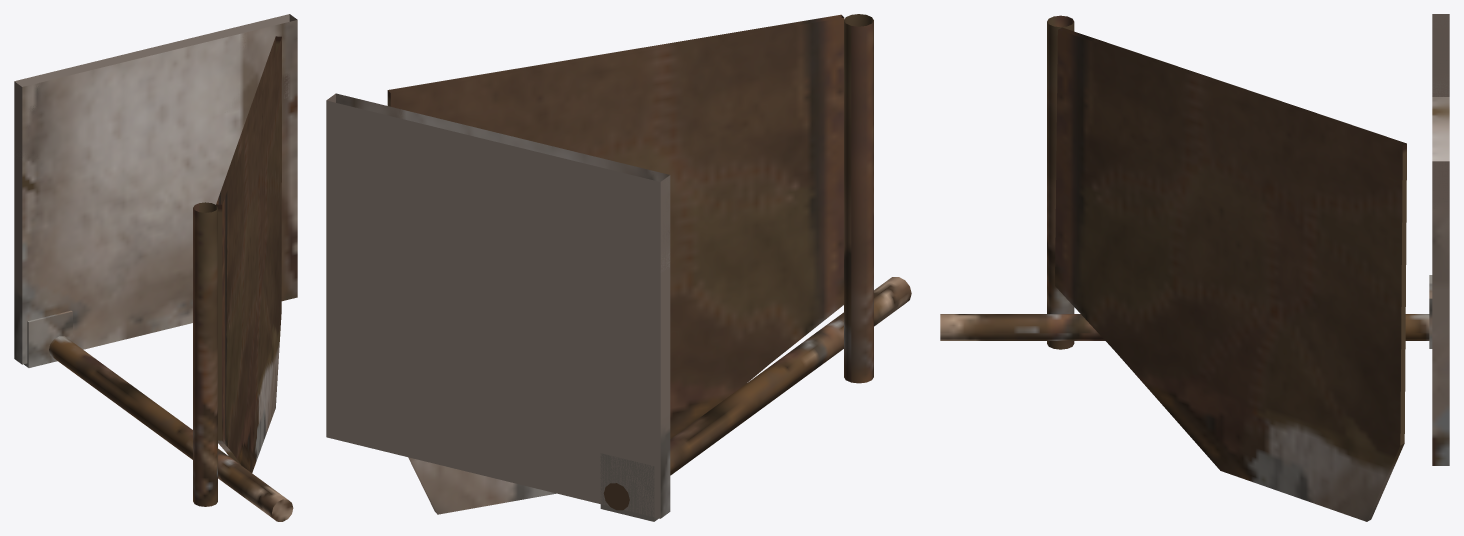
File: section-3.obj
3 views of the same model, side by side, from view 1: azimuth 30°, elevation 25°; view 2: azimuth 150°, elevation 25°; view 3: azimuth 270°, elevation 25° (orthographic). The views are drawn at different scales.
Bounding box in the file's own units: 1 × 1.23 × 1.46.
Materials: 1 (1 with a texture image).
